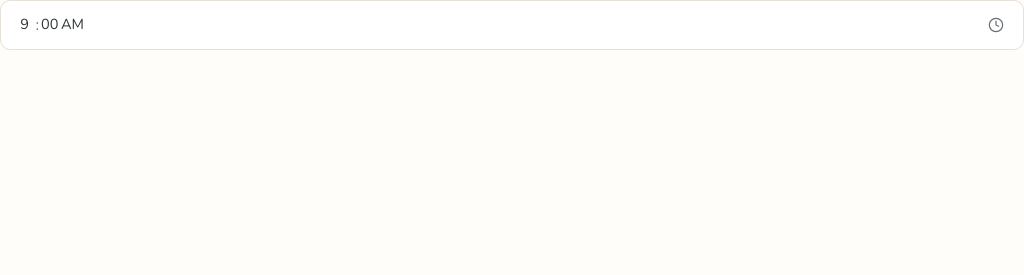
TimePicker — dropdown › opening shows Hour / Minute / AM-PM columns
Click the button named "open start picker".
click(996, 25)  # box [984,13,1008,37]
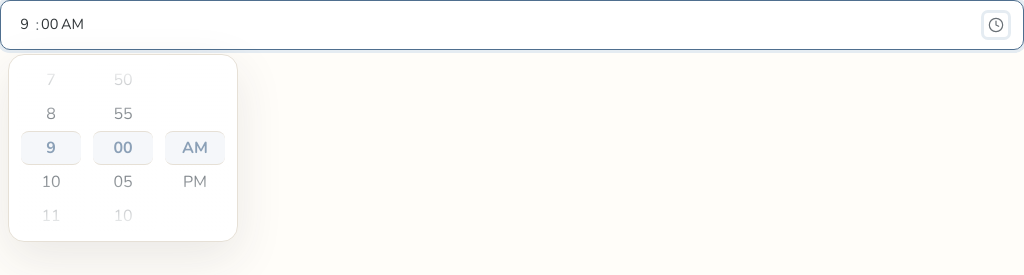
Result: the list named "Hour" is shown at [17,63,85,233]
Result: the list named "Minute" is shown at [89,63,157,233]
Result: the list named "AM/PM" is shown at [161,63,229,233]
